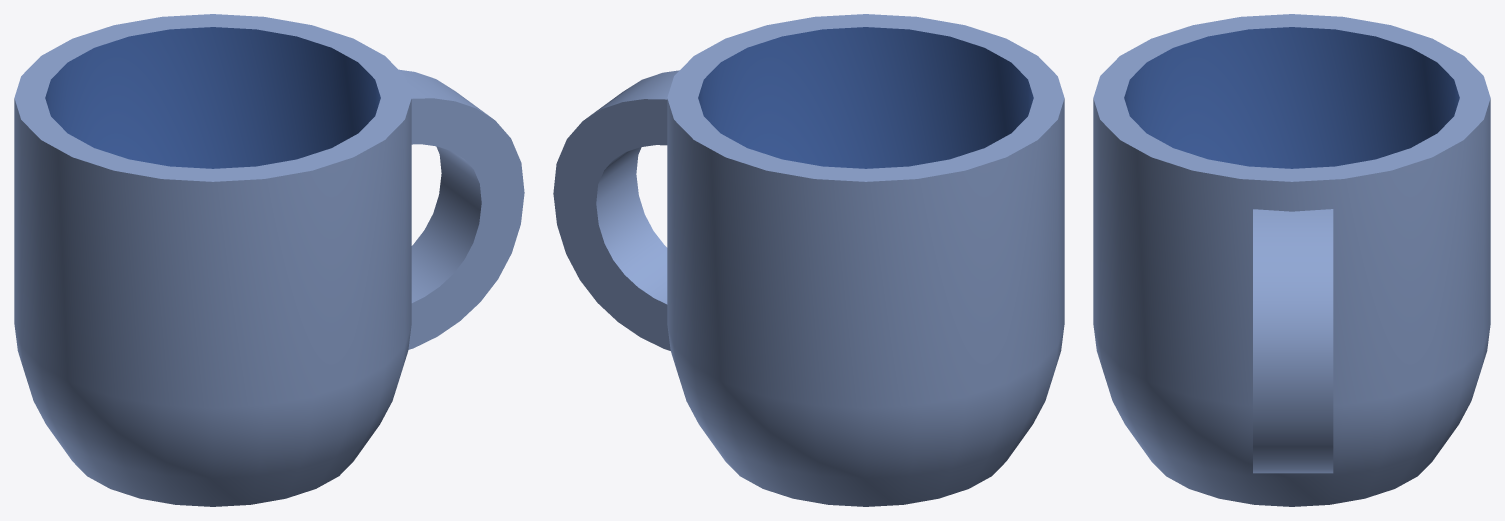
Rendered from Cup B.fbx.
3 views of the same model, side by side, from view 1: azimuth 30°, elevation 25°; view 2: azimuth 150°, elevation 25°; view 3: azimuth 270°, elevation 25° (orthographic).
Parts seen in each view (by area): view 1: Cup.001; view 2: Cup.001; view 3: Cup.001.
Boxes of the visible parts, x1,y1,x2,y2 form: Cup.001: [14, 14, 524, 506]; Cup.001: [553, 14, 1064, 506]; Cup.001: [1093, 14, 1490, 506].
Size of the model in its own units: 0.2644 by 0.1892 by 0.1961.
